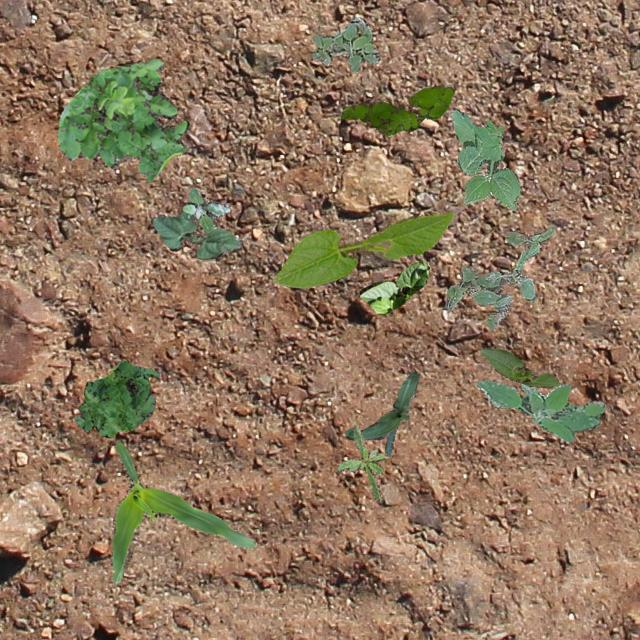crop: (110, 442, 256, 582), (272, 210, 452, 288), (344, 372, 418, 454), (150, 215, 242, 258), (358, 258, 428, 312), (481, 346, 558, 386)
weed: (55, 58, 188, 180), (444, 224, 554, 328), (476, 378, 604, 442), (450, 108, 520, 210), (72, 359, 158, 436), (341, 84, 454, 134), (336, 424, 384, 501), (311, 17, 378, 72), (178, 186, 228, 232)
